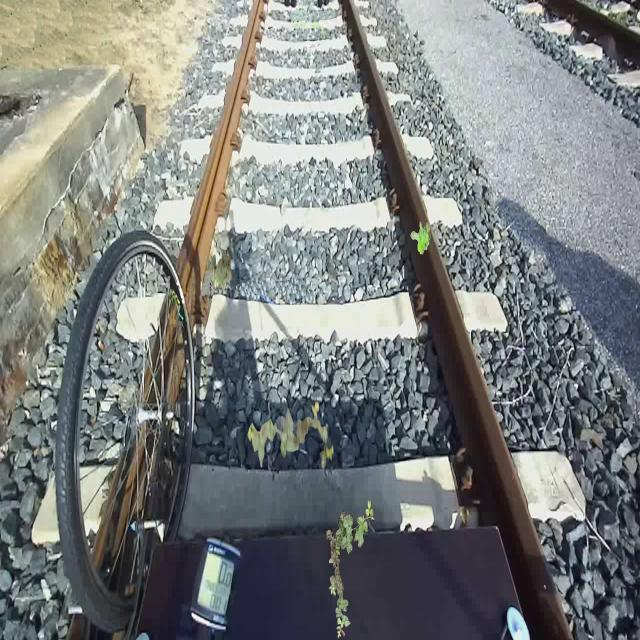Plant: (326, 501, 374, 639), (247, 401, 334, 469), (207, 249, 233, 292), (410, 222, 430, 255)
